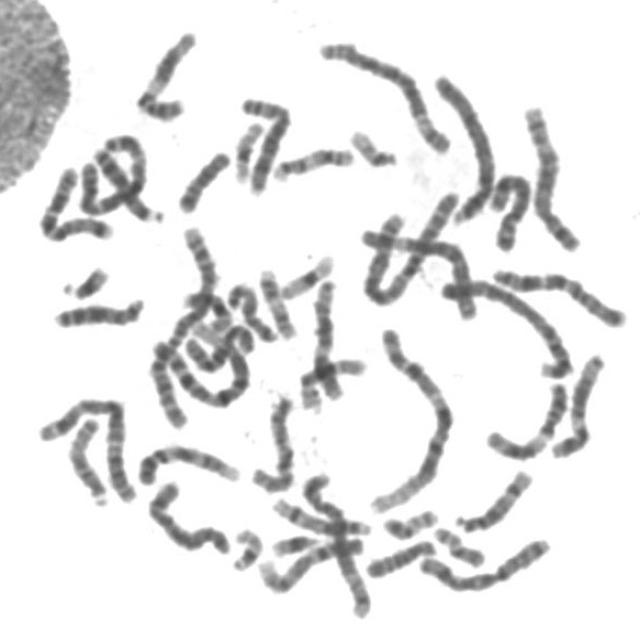A1: (361, 320, 458, 518), (144, 313, 258, 414)
A2: (143, 218, 220, 431), (356, 182, 466, 308)
A3: (32, 389, 143, 506), (72, 125, 150, 217)
B4: (432, 271, 578, 380), (425, 66, 500, 227)
B5: (296, 465, 376, 619), (517, 97, 585, 253)
C10: (245, 387, 301, 495), (178, 315, 259, 375)
C11: (479, 374, 574, 462), (128, 22, 202, 124)
C12: (546, 346, 610, 461), (306, 272, 348, 403)
C6: (312, 31, 456, 156), (355, 212, 485, 323)
C7: (488, 259, 632, 331), (32, 156, 118, 244)
C8: (234, 89, 297, 193), (483, 164, 536, 255)
C9: (254, 532, 368, 596), (131, 436, 246, 488)
D13: (87, 140, 168, 224), (47, 289, 148, 330)
D14: (449, 461, 537, 535), (267, 490, 375, 538)
D15: (62, 409, 113, 509), (226, 282, 279, 345)
E16: (294, 349, 371, 413), (176, 288, 232, 334)
E17: (267, 139, 359, 183), (252, 261, 300, 341)
E18: (171, 142, 236, 215), (360, 532, 440, 580)
F19: (274, 246, 339, 300), (228, 115, 269, 184)
F20: (428, 518, 490, 570), (378, 500, 442, 541)
G21: (57, 258, 113, 301), (266, 526, 322, 558)
G22: (342, 120, 403, 170), (226, 521, 267, 574)
X: (413, 530, 555, 596), (142, 474, 236, 557)
